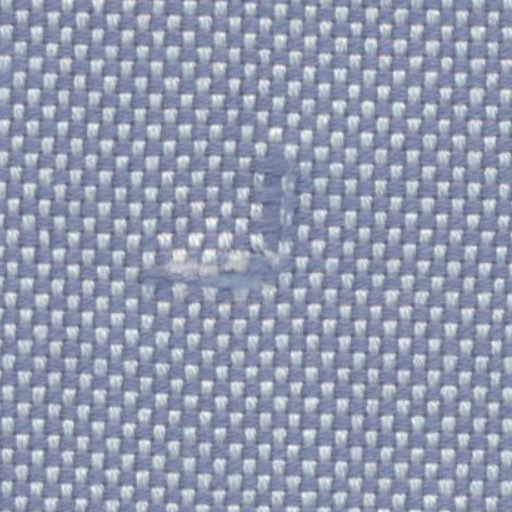PoDong: (136, 238, 300, 320)
